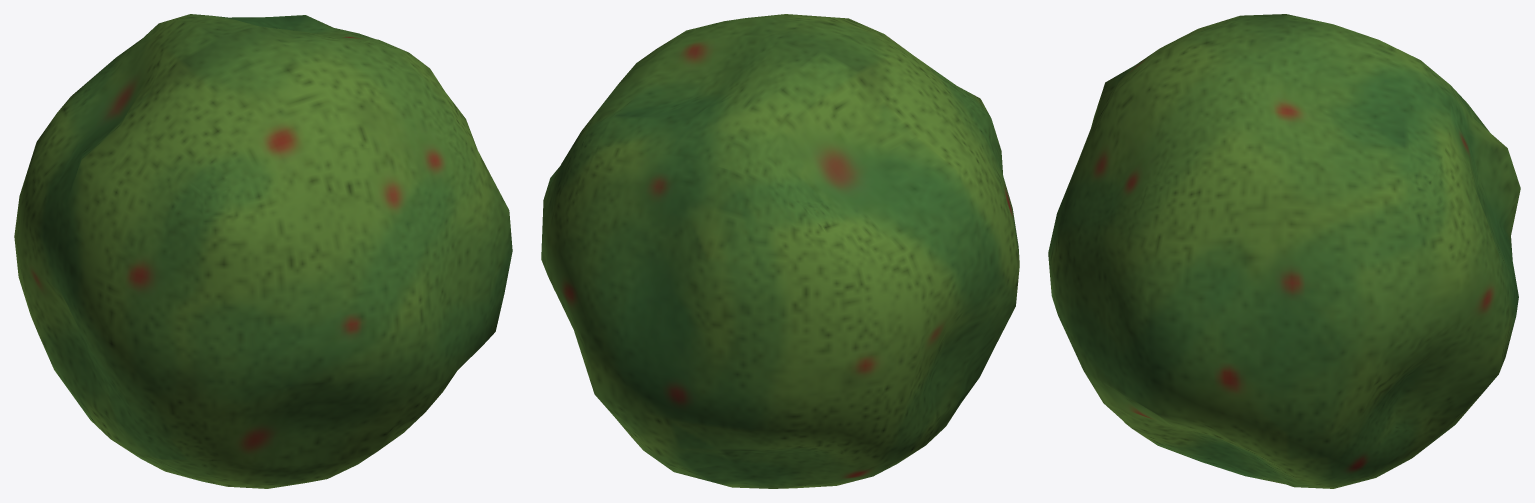
The model's file is GreenSphere.glb.
3 renders of one model, left to right at view 1: azimuth 30°, elevation 25°; view 2: azimuth 150°, elevation 25°; view 3: azimuth 270°, elevation 25°, orthographic.
Visible parts, largest first — view 1: GreenSphere; view 2: GreenSphere; view 3: GreenSphere.
Boxes of the visible parts, x1=… form: GreenSphere: x1=14, y1=14, x2=512, y2=488; GreenSphere: x1=541, y1=14, x2=1019, y2=488; GreenSphere: x1=1048, y1=14, x2=1520, y2=488.
Size of the model in its own units: 18.88 by 19.16 by 19.05.
1 material, 1 textured.
